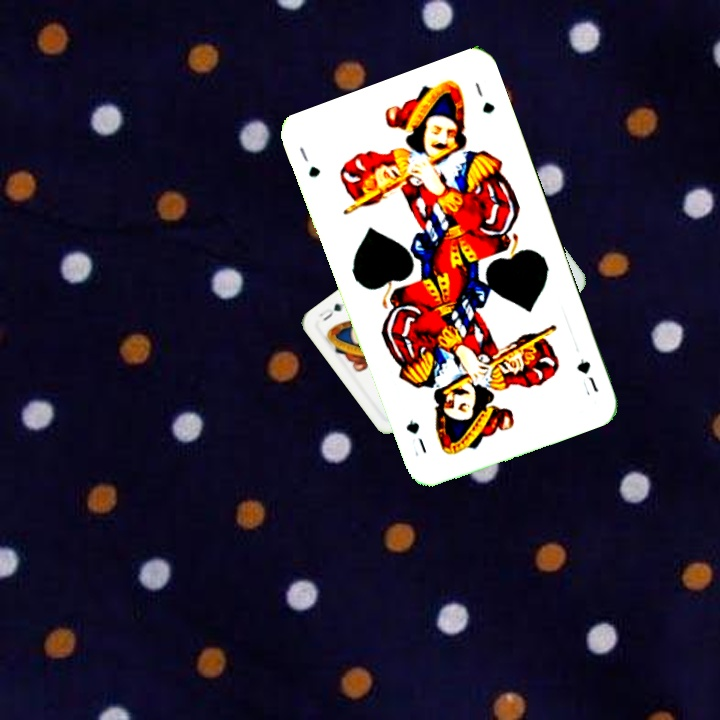GU: (572, 354, 601, 399), (295, 143, 323, 180)
